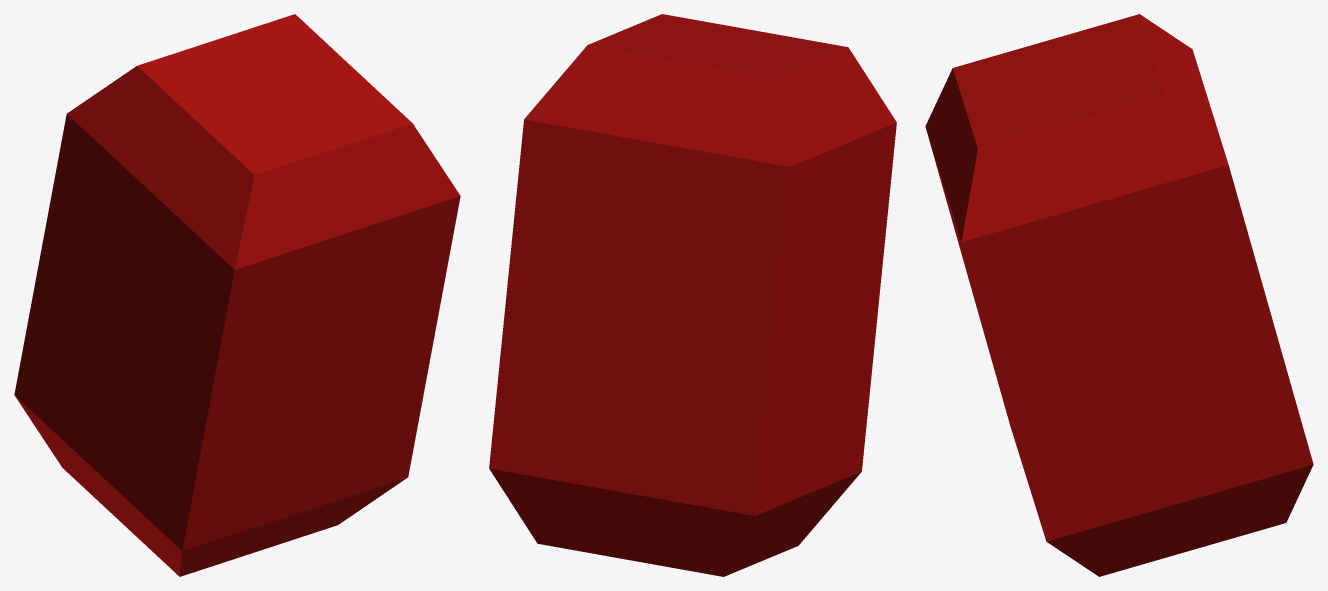
The model's file is town_jewel0019.obj.
3 renders of one model, left to right at view 1: azimuth 30°, elevation 25°; view 2: azimuth 150°, elevation 25°; view 3: azimuth 270°, elevation 25°, orthographic. The views are drawn at different scales.
Visible parts, largest first — view 1: RedJewel; view 2: RedJewel; view 3: RedJewel.
Part boxes in pixels (x1,y1,x2,y2): RedJewel: [14, 14, 460, 576]; RedJewel: [489, 14, 896, 576]; RedJewel: [925, 14, 1313, 576].
Size of the model in its own units: 0.7387 by 1.21 by 0.8933.
